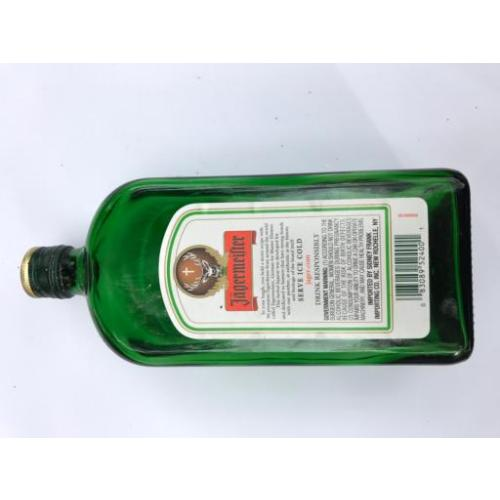glass: (19, 167, 472, 365)
